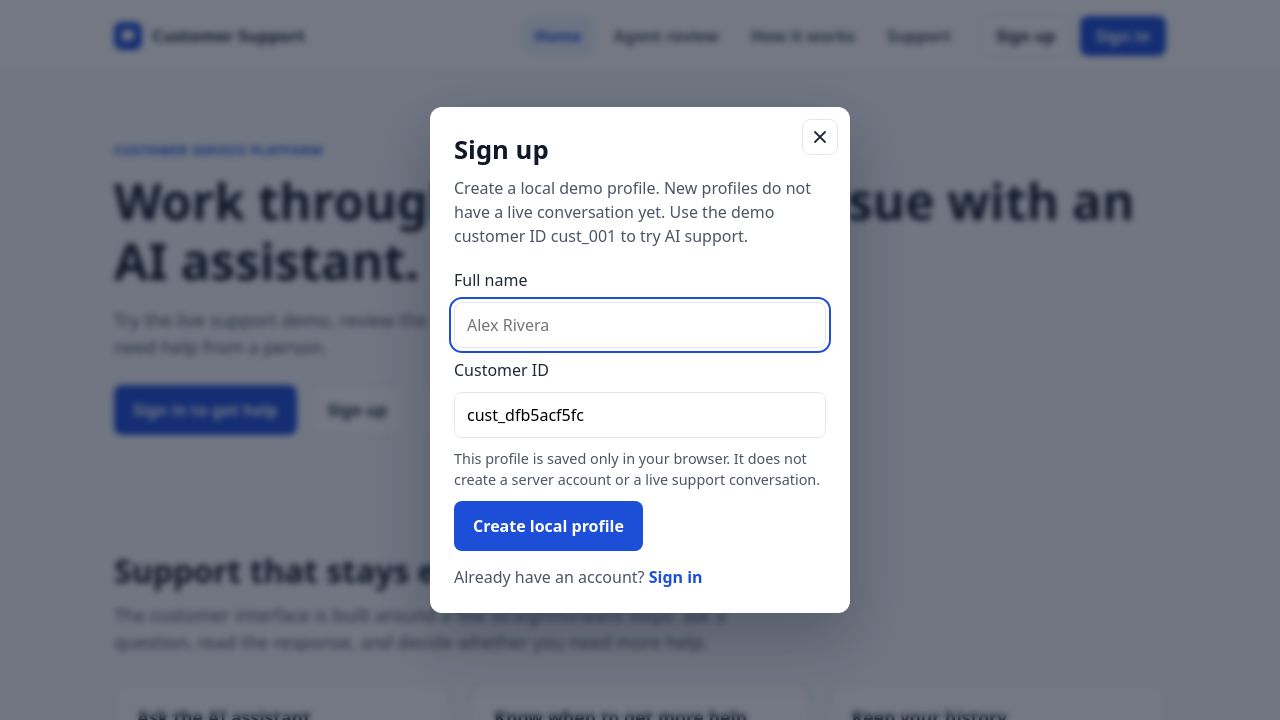
Scenario: customer support workflows › creates a local profile without claiming it has a live backend conversation
The image size is (1280, 720).
Type "Test Customer" into the field labelled "Full name" at (640, 325), box [454,302,826,348]
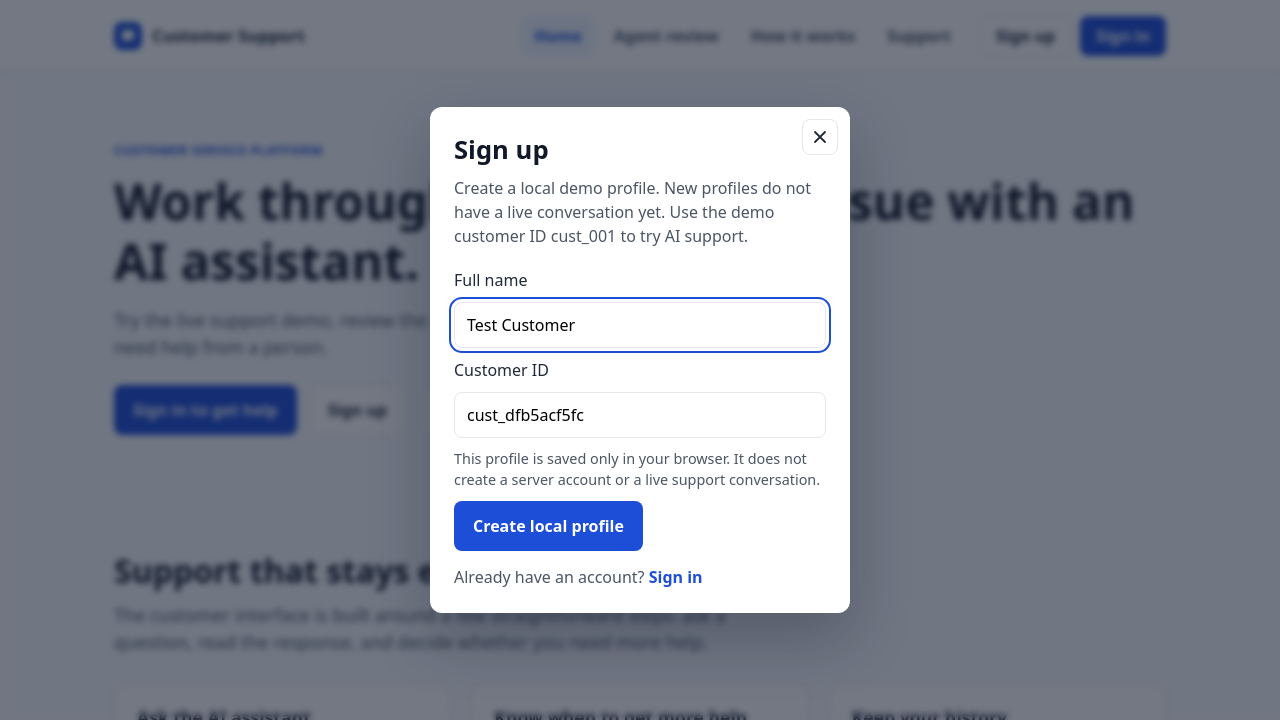
Replace the text in the field labelled "Customer ID" with "new_customer" at (640, 415), box [454,392,826,438]
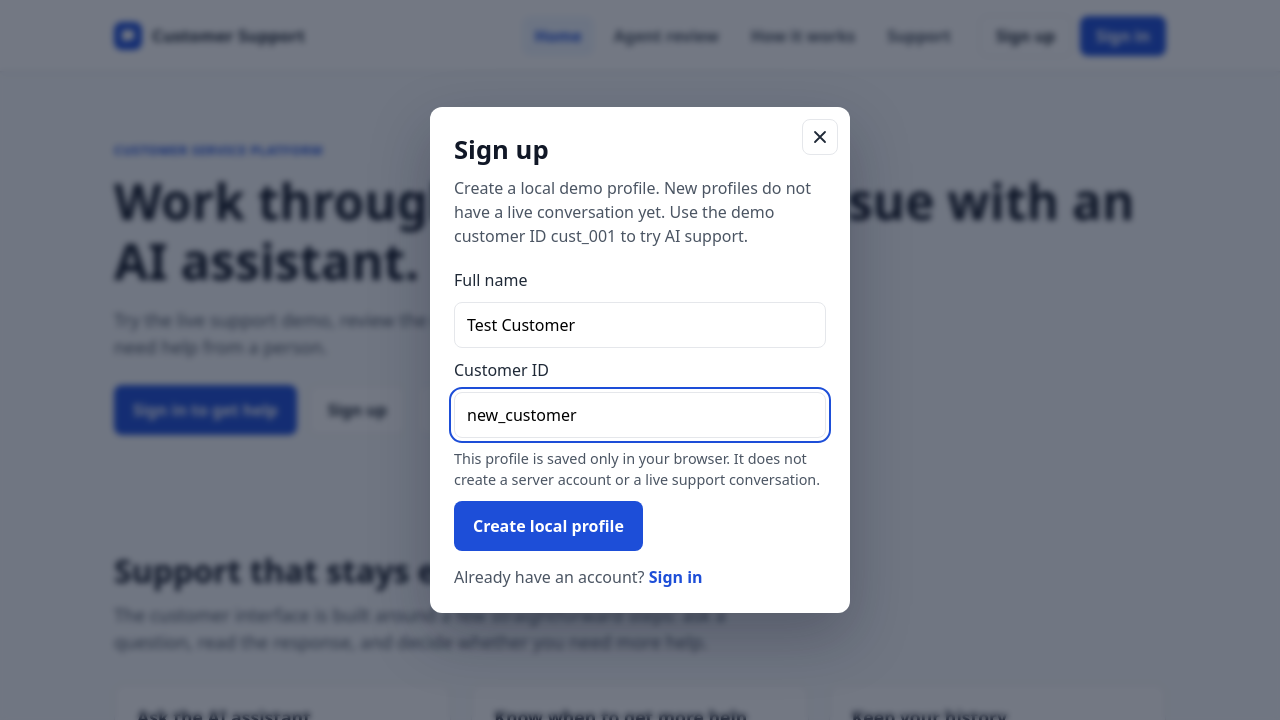
Click the button "Create local profile" at (548, 526), box [454,501,643,551]
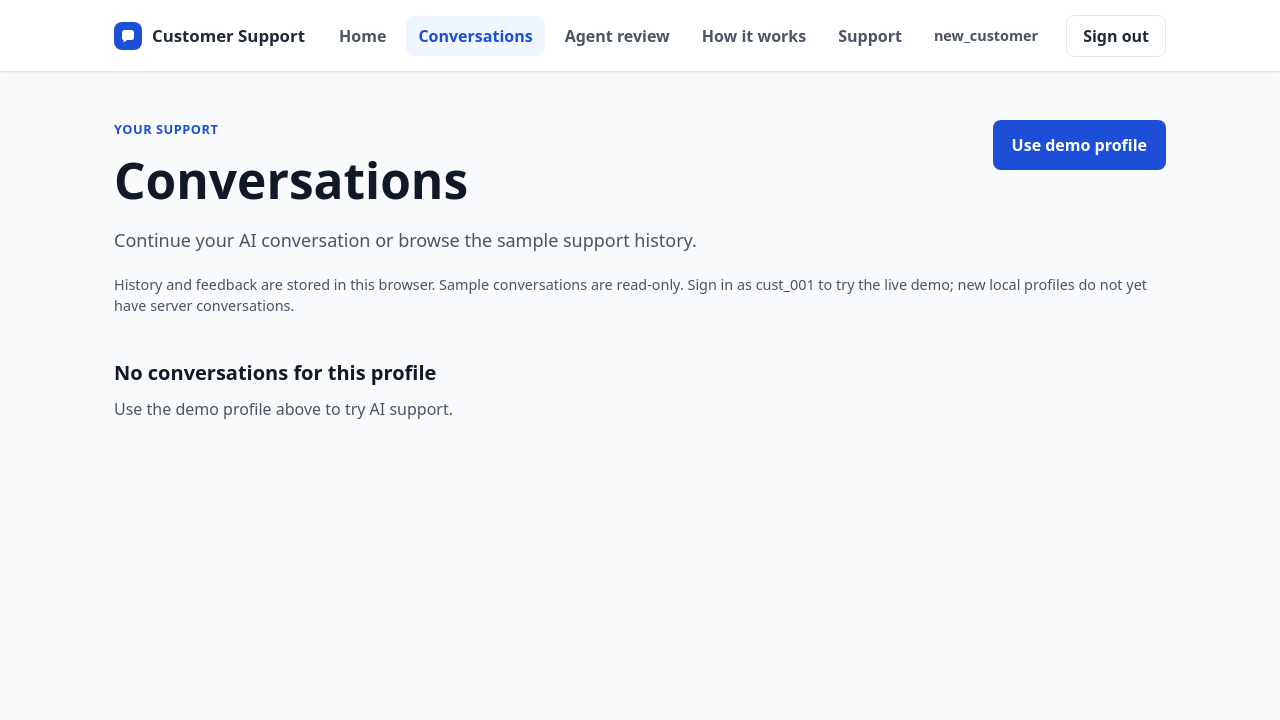
Check: the heading "No conversations for this profile" is shown, box [114,359,436,386]
Check: the text "new_customer" is shown, box [934,26,1038,45]
